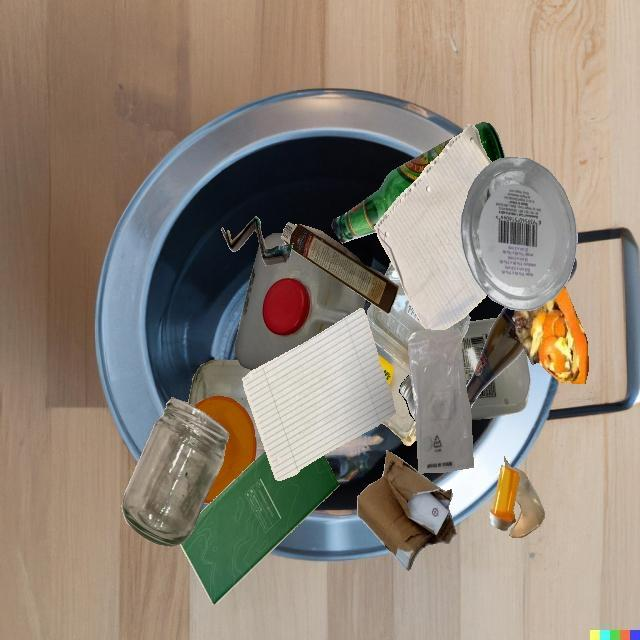biowaste: (515, 286, 589, 383)
cardboard: (357, 450, 457, 571), (281, 222, 399, 314), (221, 216, 293, 266)
glass: (122, 397, 229, 547), (331, 132, 462, 243), (188, 359, 265, 449), (466, 306, 524, 408), (504, 456, 545, 538)
metal: (399, 375, 416, 422)
paper: (243, 308, 395, 481), (180, 450, 339, 605), (374, 125, 492, 330)
plastic: (461, 157, 577, 311), (234, 245, 366, 370), (367, 261, 427, 446), (408, 330, 473, 473), (194, 395, 257, 504), (470, 349, 531, 420), (461, 318, 497, 387), (489, 465, 520, 531)
